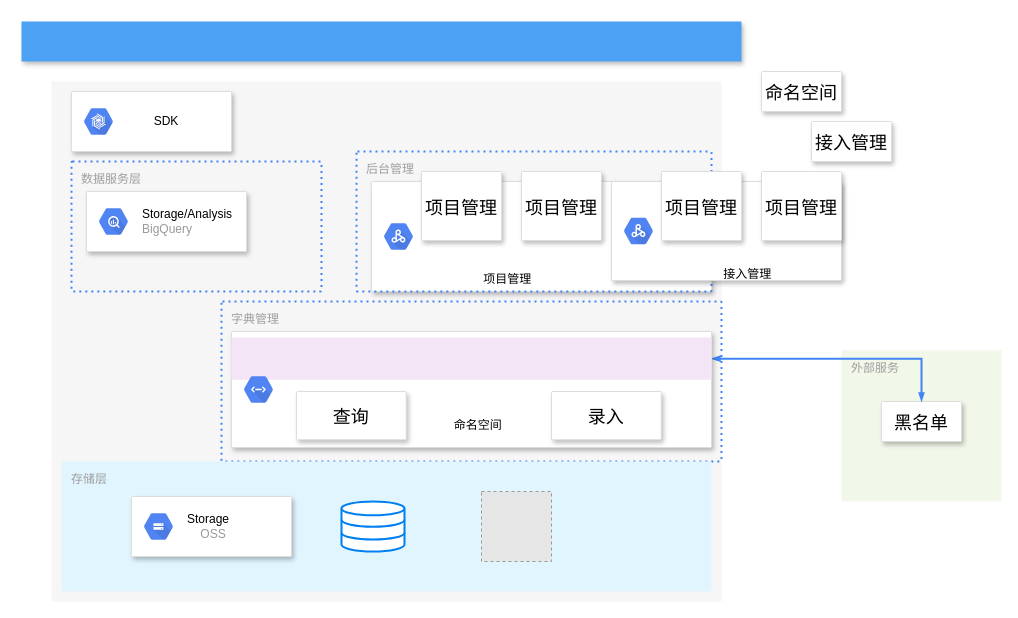
Image size: 1018x618. Some labels were removed from this diagram. Grey dashed boxes stand in for pictures. The shapes that lost their labels are listed below. From the top down, each one's centre as x and y in pixels, then its label:
pixel 382 42: Architecture
pixel 471 358: 黑名单过滤
